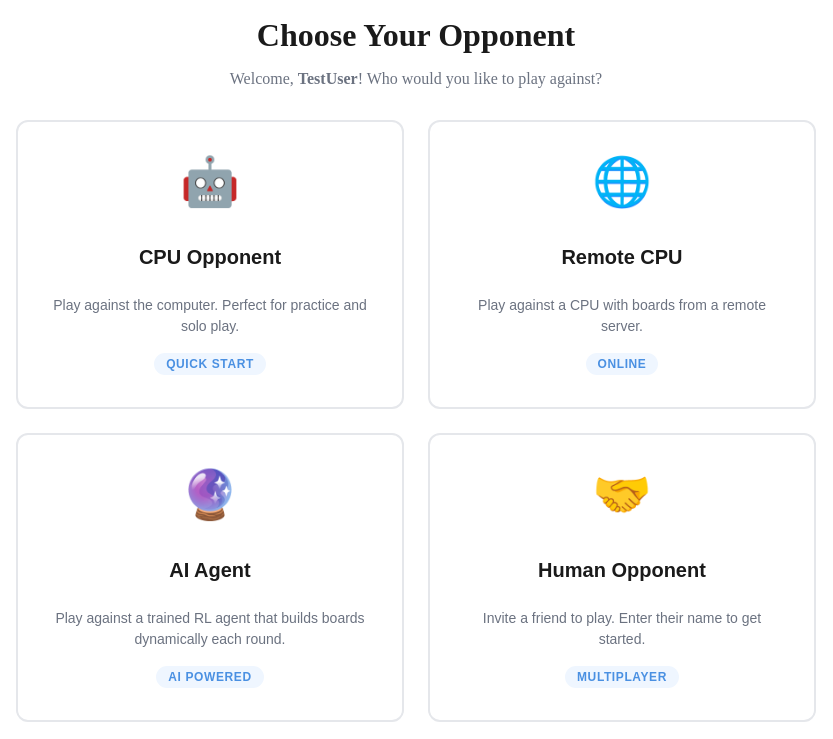
OpponentManager › Back button functionality › should return to opponent selection when Back clicked
This screenshot has width=833, height=739.
Click the button with aria-label "Play against human opponent": [622, 577] box [428,432,816,722]
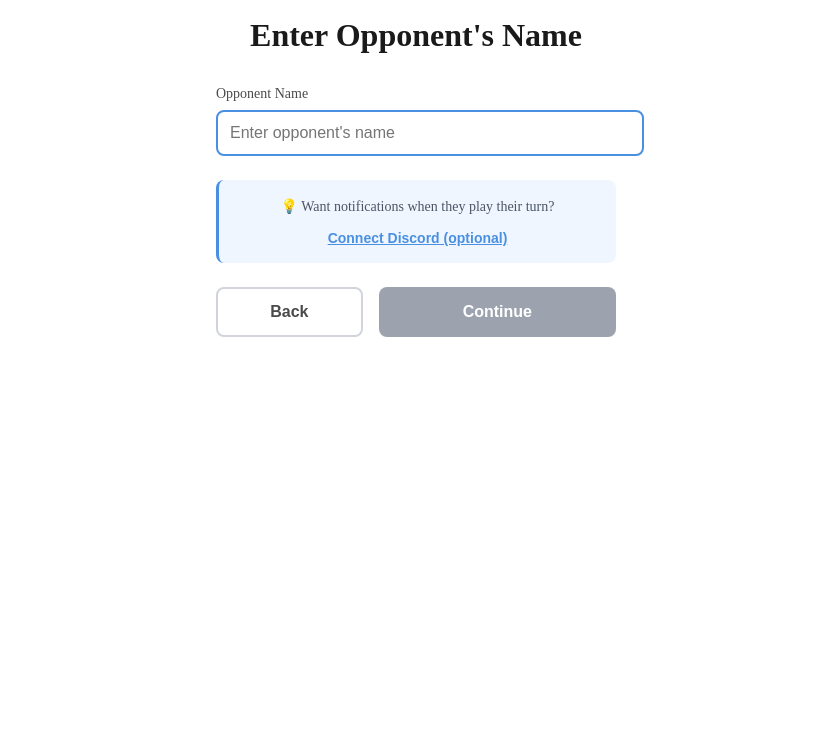
Now the heading "Enter Opponent's Name" is shown, box [250,16,582,52]
Click the button "Back": [289, 312] box [216,286,363,336]
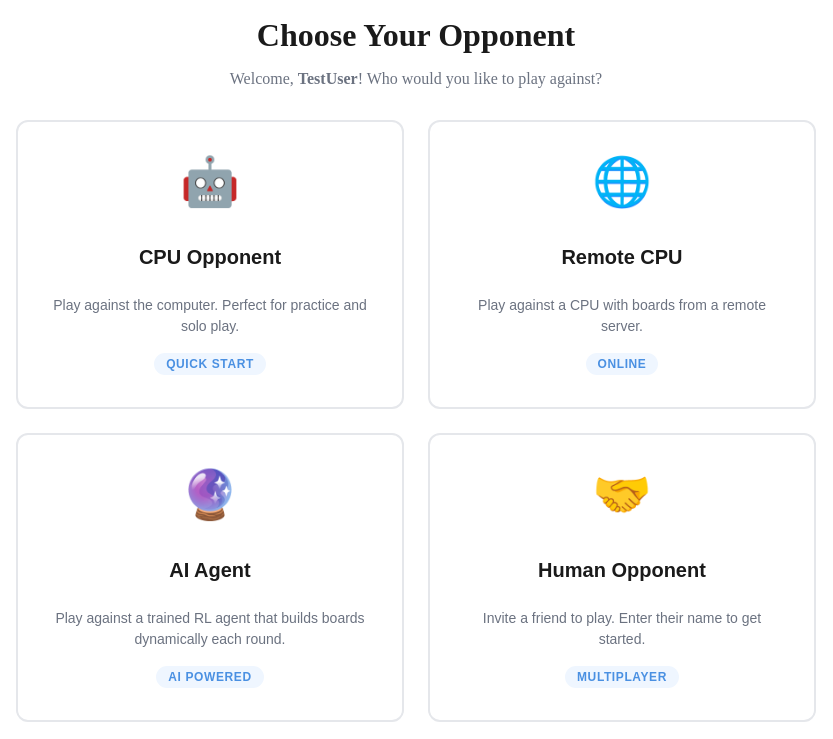
Now the heading "Choose Your Opponent" is shown, box [257,16,575,52]
Now the heading "CPU Opponent" is shown, box [139,246,281,268]
